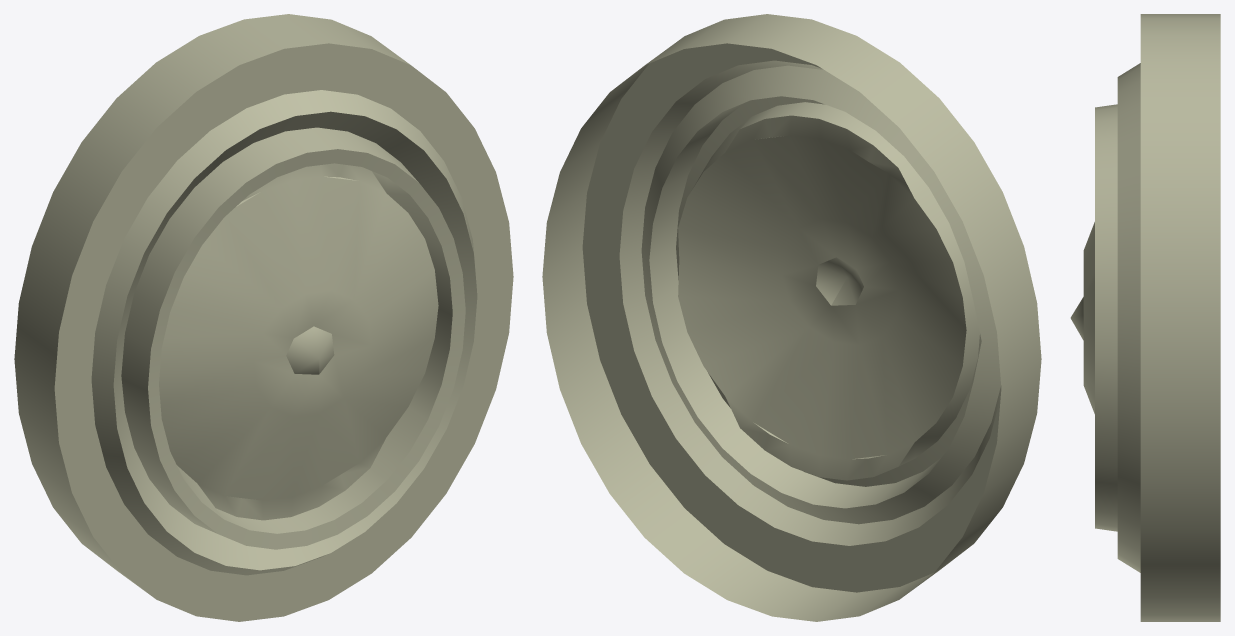
The model's file is SM_walldeco001.fbx.
3 views of the same model, side by side, from view 1: azimuth 30°, elevation 25°; view 2: azimuth 150°, elevation 25°; view 3: azimuth 270°, elevation 25° (orthographic).
Visible parts, largest first — view 1: SM_deco001; view 2: SM_deco001; view 3: SM_deco001.
Boxes of the visible parts, x1,y1,x2,y2 form: SM_deco001: (14, 14, 513, 621); SM_deco001: (542, 14, 1041, 621); SM_deco001: (1070, 14, 1220, 621).
Bounding box in the file's own units: 312 × 368 × 88.63.
